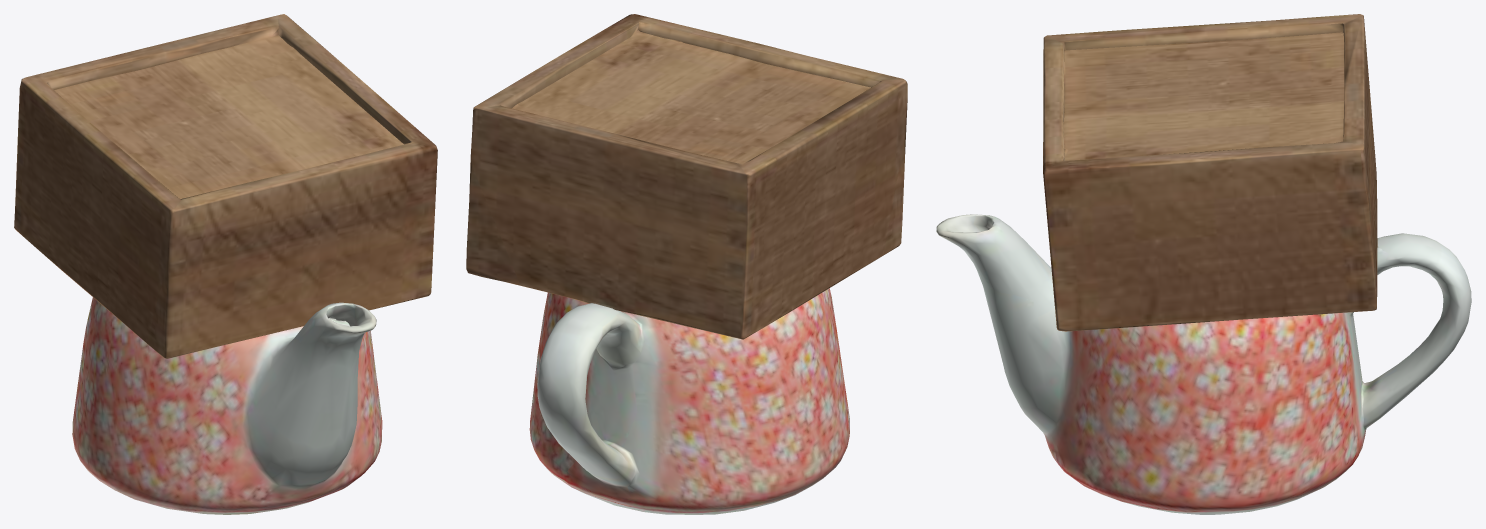
The model's file is 16374_PS01_S01_NV01_RQP2_3.0.glb.
3 renders of one model, left to right at view 1: azimuth 30°, elevation 25°; view 2: azimuth 150°, elevation 25°; view 3: azimuth 270°, elevation 25°, orthographic. The views are drawn at different scales.
Parts seen in each view (by area): view 1: ProcessedMeshNode; view 2: ProcessedMeshNode; view 3: ProcessedMeshNode.
Boxes of the visible parts, x1,y1,x2,y2 form: ProcessedMeshNode: (14,14,437,514); ProcessedMeshNode: (466,14,907,514); ProcessedMeshNode: (936,14,1471,514).
Size of the model in its own units: 0.1081 by 0.1404 by 0.1785.
1 material, 1 textured.
